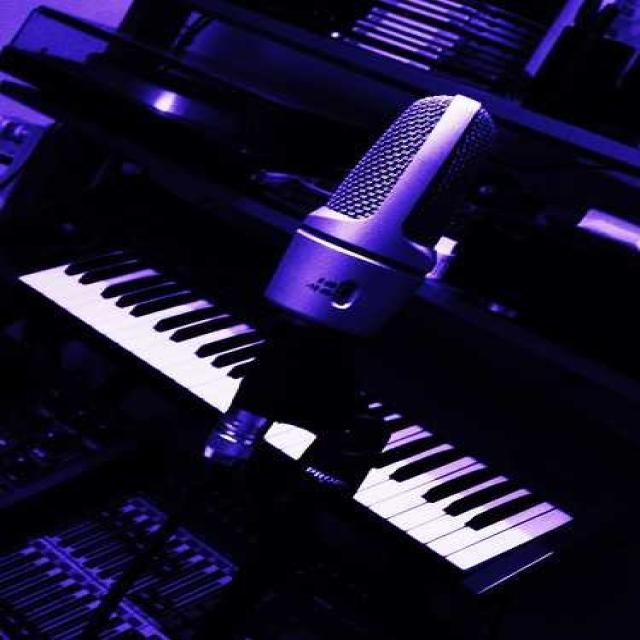microphone: (267, 96, 491, 337)
